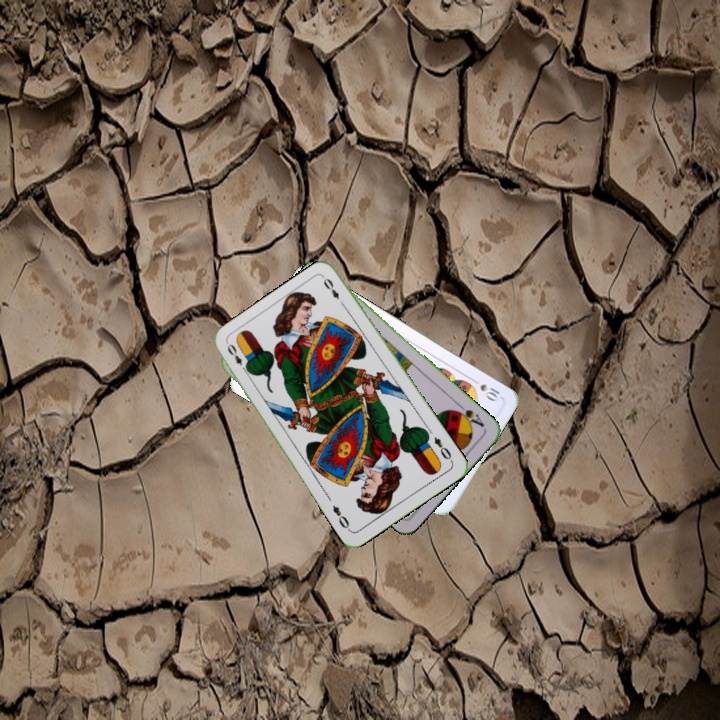EO: (223, 340, 252, 376), (430, 433, 455, 465)
S10: (467, 374, 504, 404)
SA: (450, 400, 487, 430)
